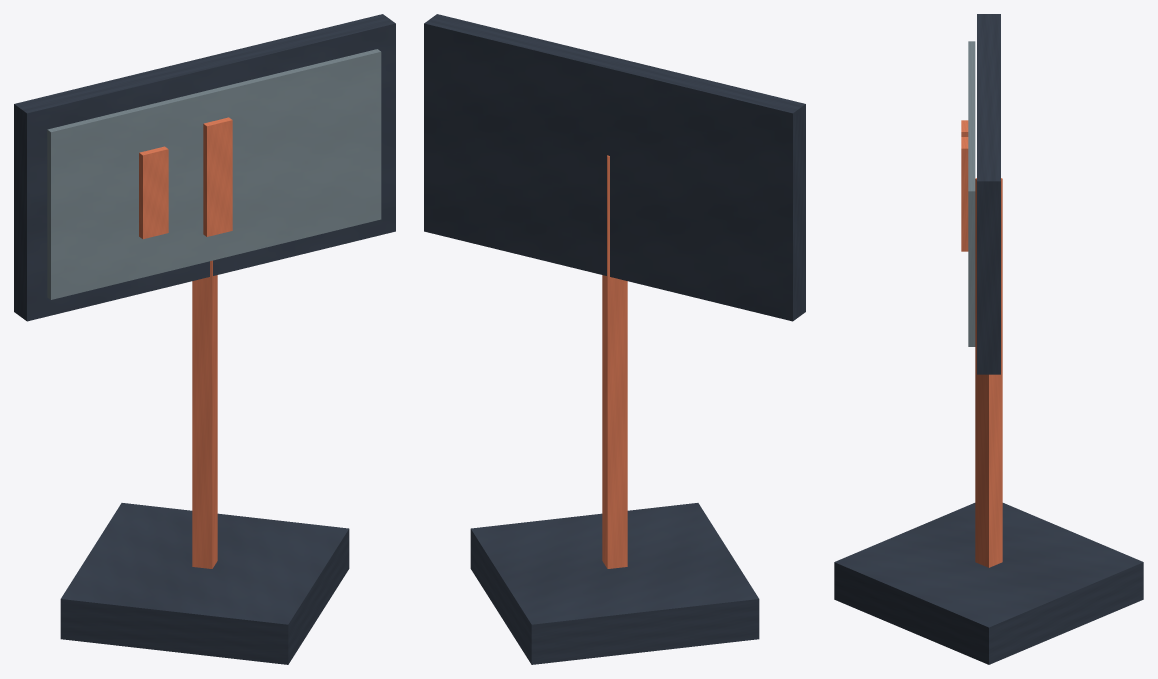
The model's file is atlas100-s022-a11.lod1.glb.
The picture shows the model from 3 angles, left to right: view 1: azimuth 30°, elevation 25°; view 2: azimuth 150°, elevation 25°; view 3: azimuth 270°, elevation 25°; orthographic projection. The views are drawn at different scales.
Visible parts, largest first — view 1: atlas100-s022-a11:part-003, atlas100-s022-a11:part-000, atlas100-s022-a11:part-002, atlas100-s022-a11:part-001, atlas100-s022-a11:part-005, atlas100-s022-a11:part-004; view 2: atlas100-s022-a11:part-002, atlas100-s022-a11:part-000, atlas100-s022-a11:part-001; view 3: atlas100-s022-a11:part-000, atlas100-s022-a11:part-002, atlas100-s022-a11:part-001, atlas100-s022-a11:part-003, atlas100-s022-a11:part-005.
Part boxes in pixels (box(x1,y1,x2,y2)): atlas100-s022-a11:part-003: box(47, 49, 381, 299); atlas100-s022-a11:part-000: box(60, 503, 349, 664); atlas100-s022-a11:part-002: box(14, 14, 395, 321); atlas100-s022-a11:part-001: box(192, 260, 217, 568); atlas100-s022-a11:part-005: box(203, 117, 232, 236); atlas100-s022-a11:part-004: box(139, 146, 168, 239); atlas100-s022-a11:part-002: box(424, 14, 805, 321); atlas100-s022-a11:part-000: box(470, 503, 759, 664); atlas100-s022-a11:part-001: box(602, 155, 627, 568); atlas100-s022-a11:part-000: box(834, 503, 1143, 664); atlas100-s022-a11:part-002: box(977, 14, 1000, 374); atlas100-s022-a11:part-001: box(975, 178, 1002, 567); atlas100-s022-a11:part-003: box(968, 41, 975, 346); atlas100-s022-a11:part-005: box(961, 137, 968, 251).
Bounding box in the file's own units: 1.15 × 1.61 × 0.9.
3 materials, 3 textured.
